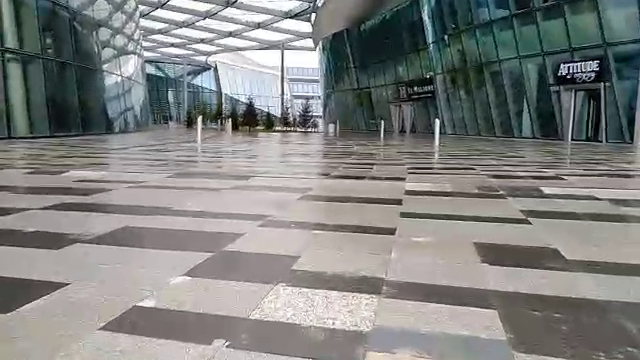ilmalione: (394, 77, 440, 103)
